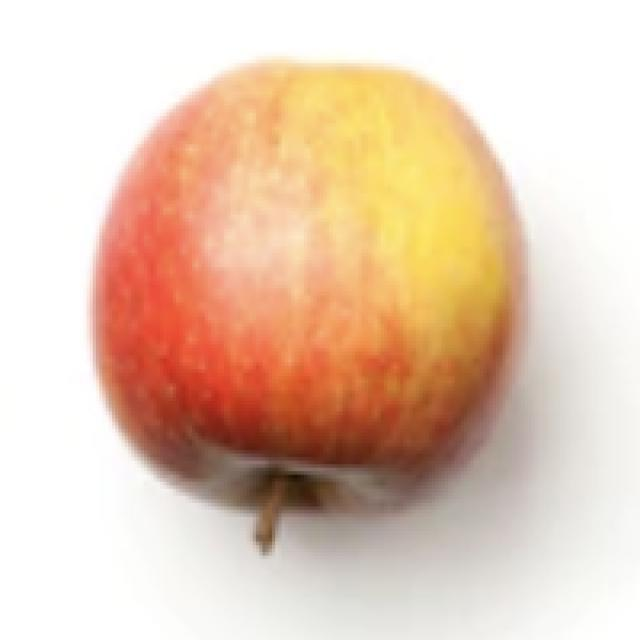Fresh Apple: (115, 62, 507, 530)
